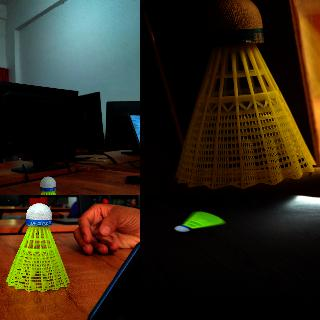shuttlecock: (175, 0, 317, 189), (5, 202, 70, 292), (173, 211, 224, 232), (30, 176, 69, 194)
